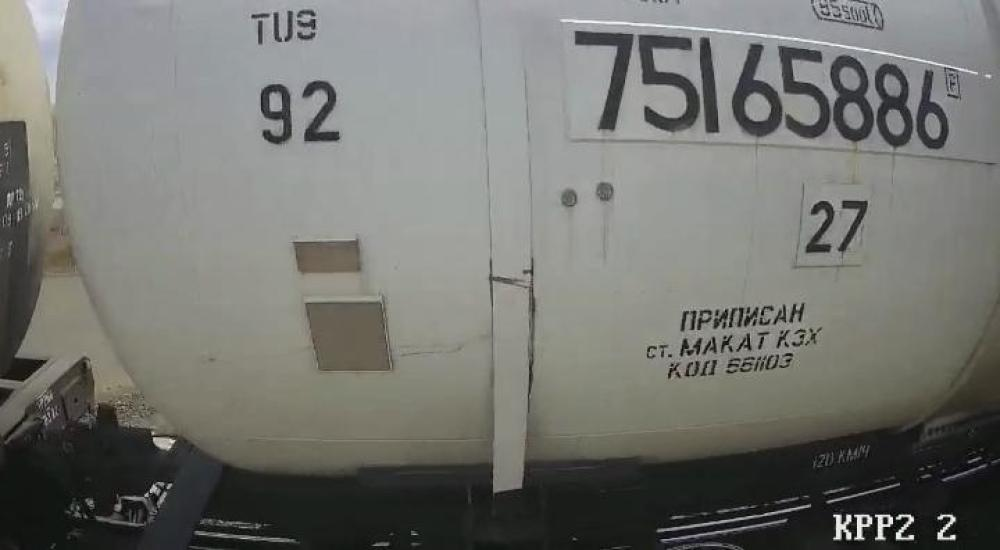Wagon-number: (573, 25, 952, 156)
